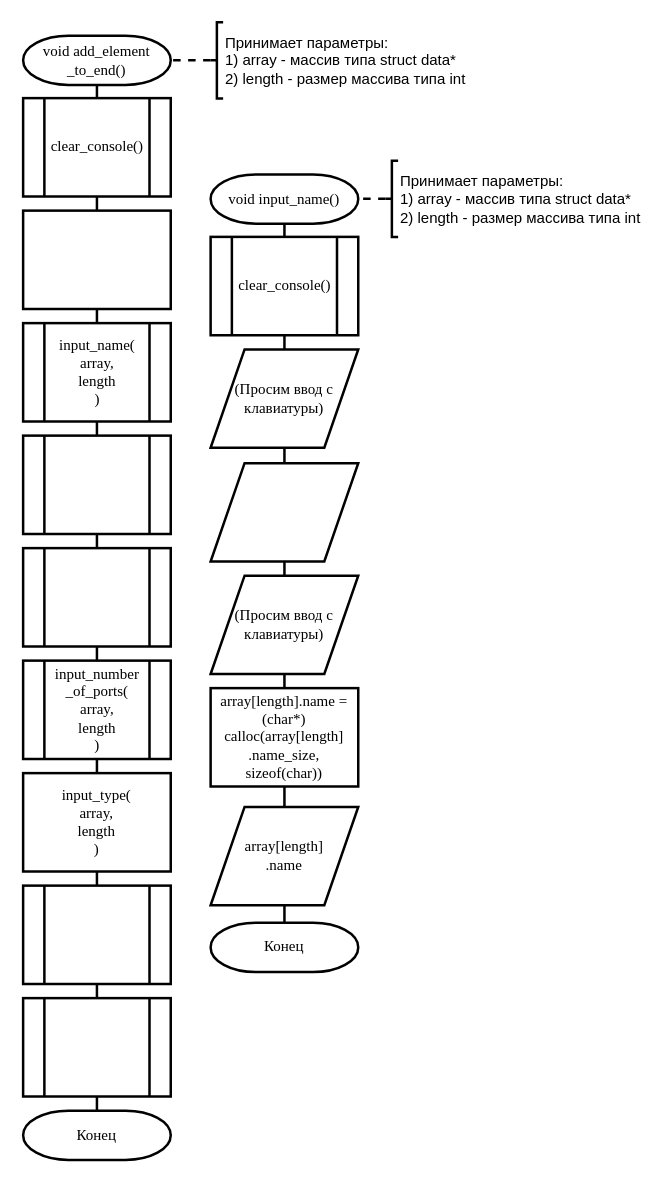
Some shapes in this 661 by 1184 pixel diagram are drawn without their labels. Each missing label, with the centre of its shape:
"array = (struct data*) realloc( array, (length + 1) * sizeof(struct data) )" goes at pixel 96 259.
"array[length] .name_size" goes at pixel 284 511.
"input_area( array, length )" goes at pixel 96 596.
"input_length( array, length )" goes at pixel 96 484.
"menu( array, length + 1 )" goes at pixel 96 1046.
"pause_console()" goes at pixel 96 934.
